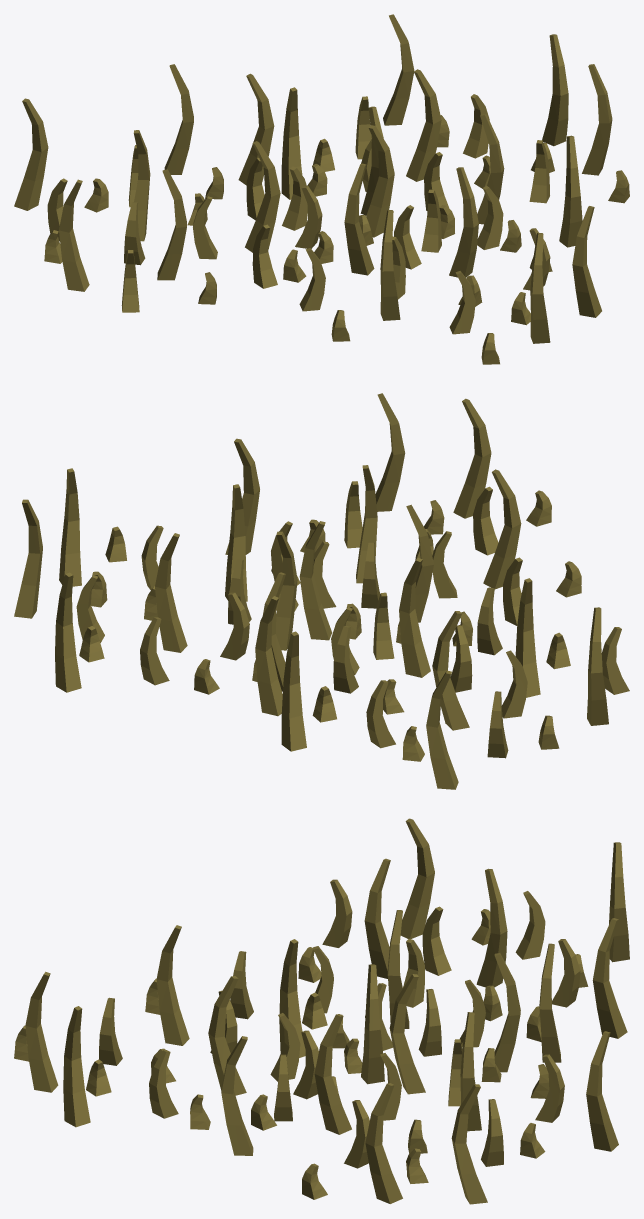
File: Grass2.fbx
The picture shows the model from 3 angles, top to bottom: view 1: azimuth 30°, elevation 25°; view 2: azimuth 150°, elevation 25°; view 3: azimuth 270°, elevation 25°; orthographic projection. The views are drawn at different scales.
Visible parts, largest first — view 1: Cube.003; view 2: Cube.003; view 3: Cube.003.
Part boxes in pixels (box(x1,y1,x2,y2)): Cube.003: box(14, 14, 629, 364); Cube.003: box(14, 393, 629, 789); Cube.003: box(14, 818, 629, 1204).
Size of the model in its own units: 381 by 73.3 by 357.
